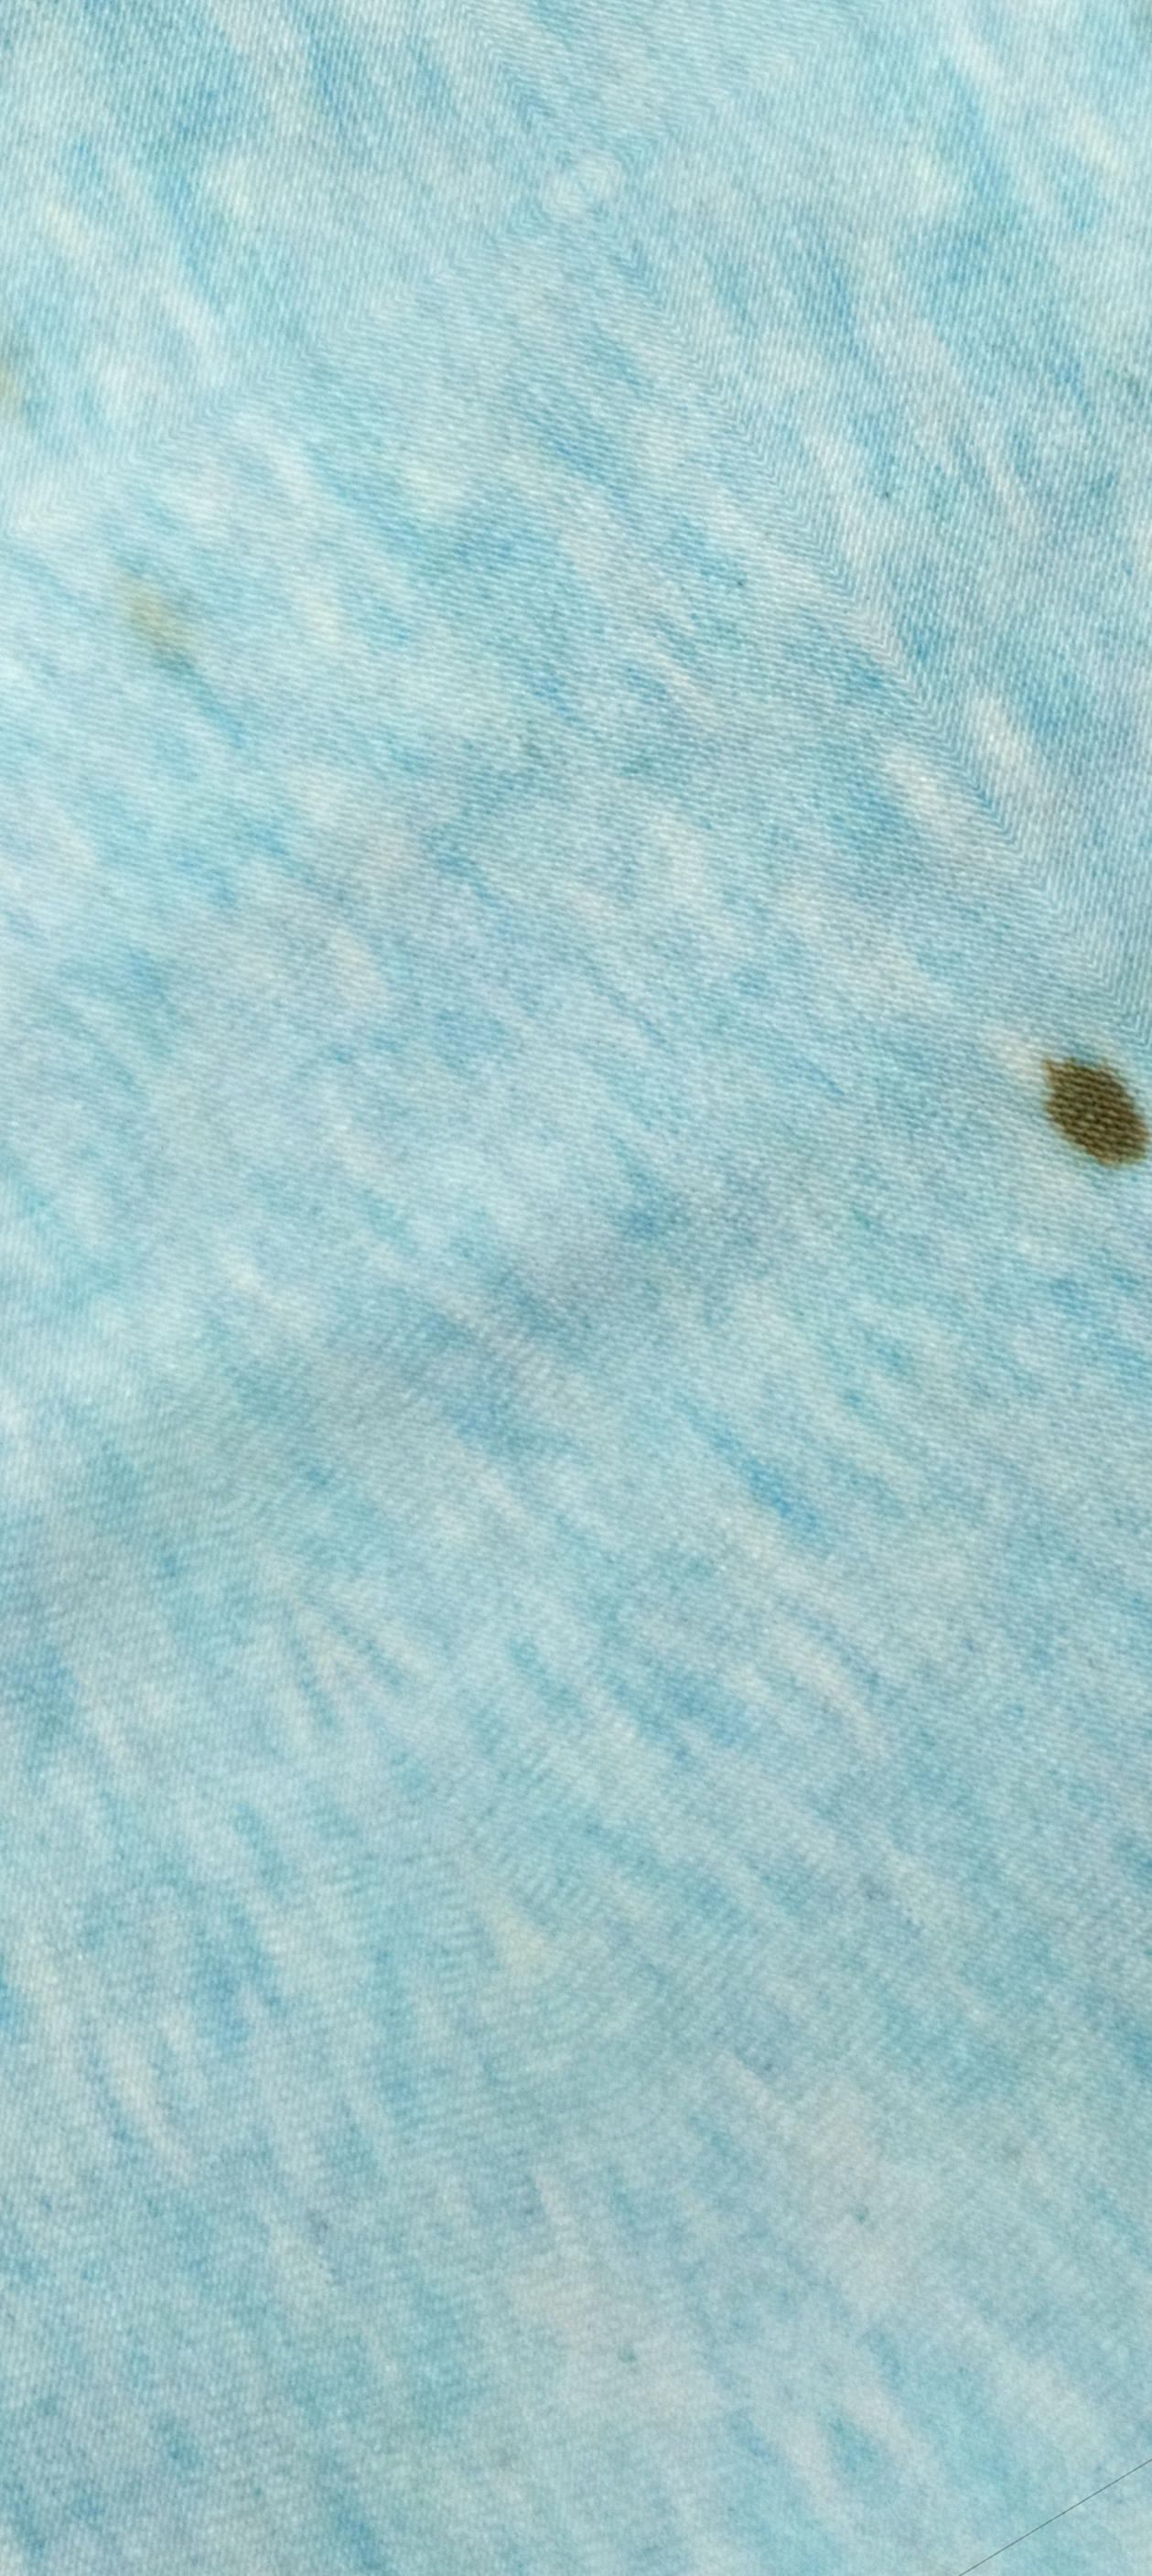stain: (1006, 1017, 1142, 1209)
